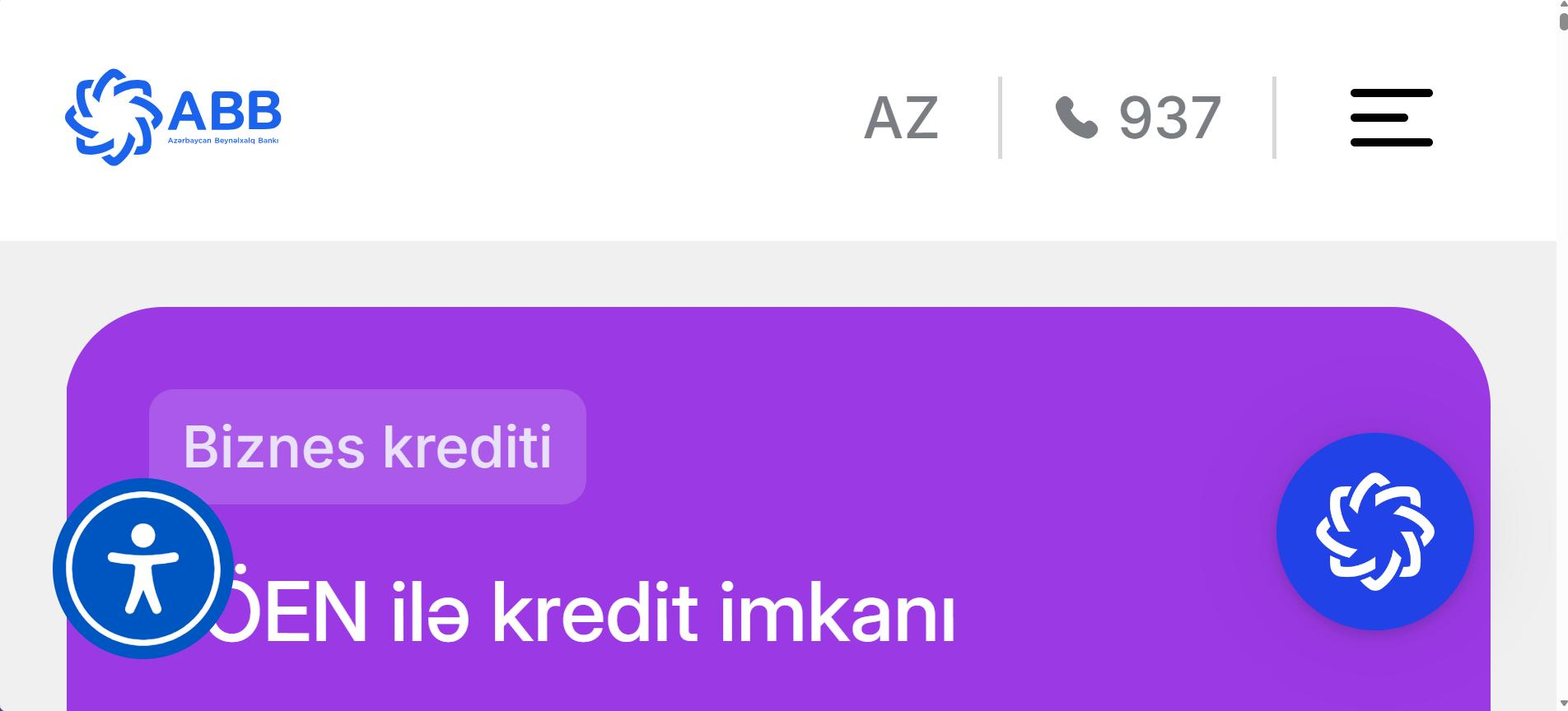ABB: (1308, 468, 1440, 593), (59, 63, 166, 170)
